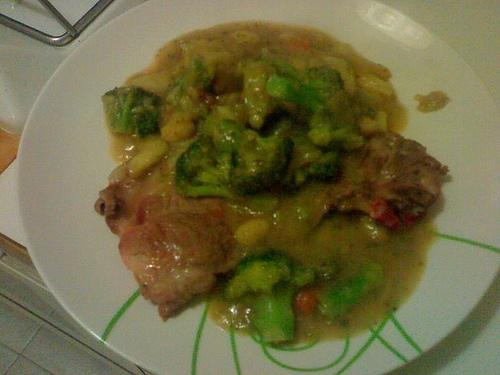broccoli: (225, 252, 316, 346), (269, 113, 343, 188), (174, 134, 240, 202), (219, 61, 283, 130), (232, 126, 292, 194), (266, 66, 344, 114), (319, 262, 384, 318), (101, 85, 163, 142), (308, 106, 366, 147), (202, 104, 242, 152), (190, 57, 213, 92)
